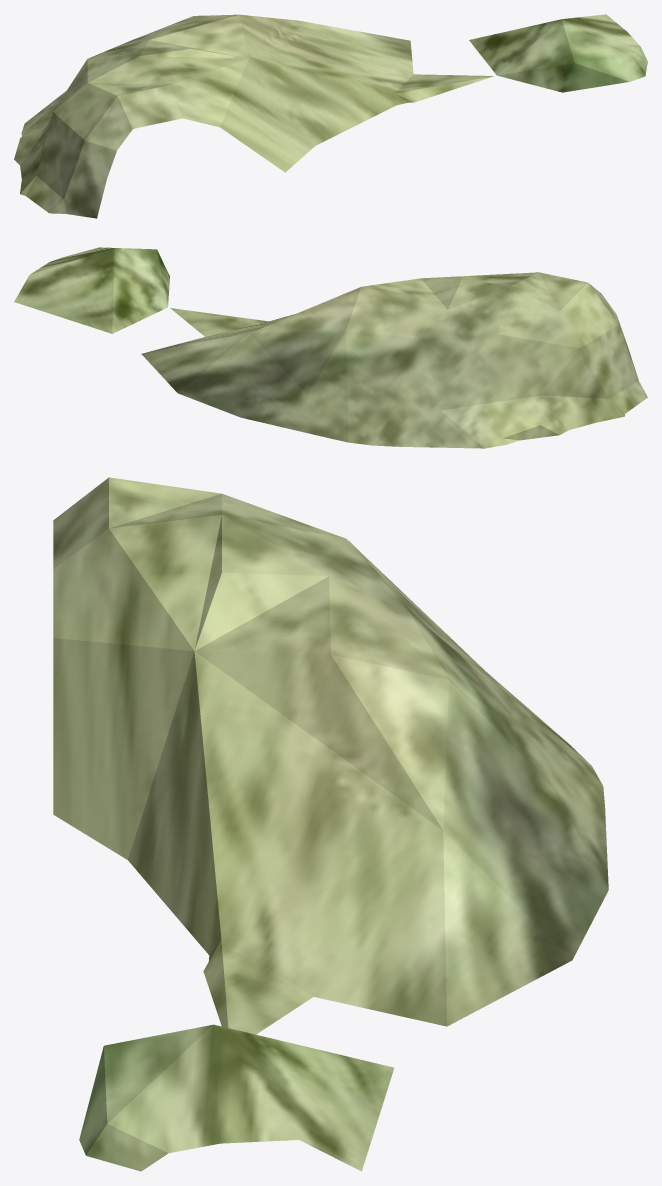
The picture shows the model from 3 angles, top to bottom: view 1: azimuth 30°, elevation 25°; view 2: azimuth 150°, elevation 25°; view 3: azimuth 270°, elevation 25°; orthographic projection. The views are drawn at different scales.
Bounding box in the file's own units: 3.64 × 0.6222 × 1.52.
Materials: 1 (1 with a texture image).
